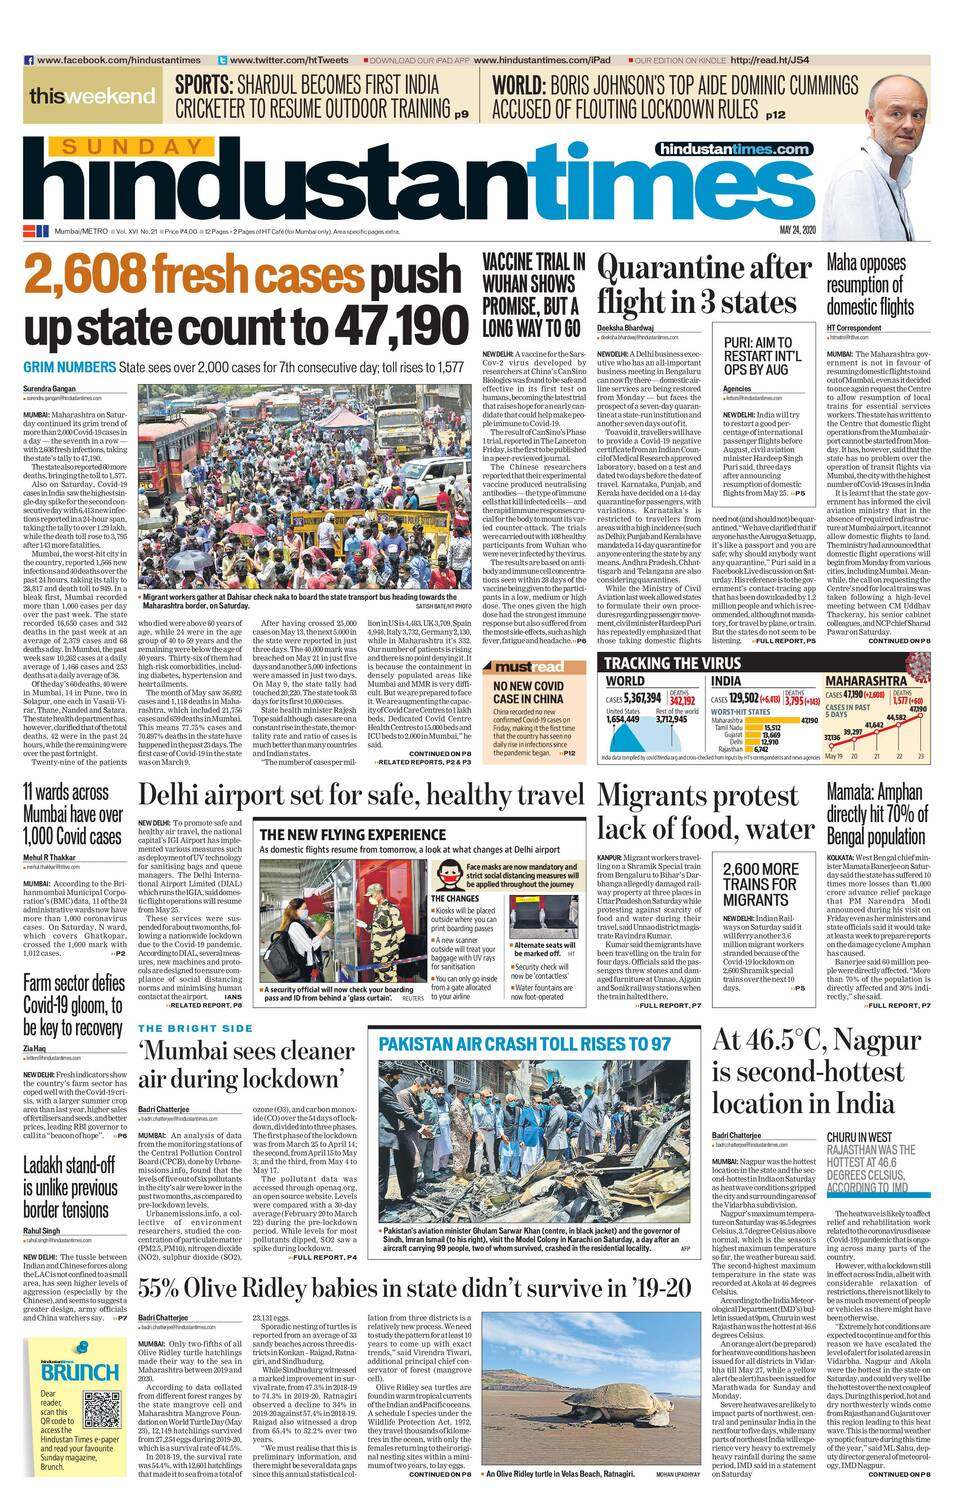news_paper: (17, 4, 943, 1500)
